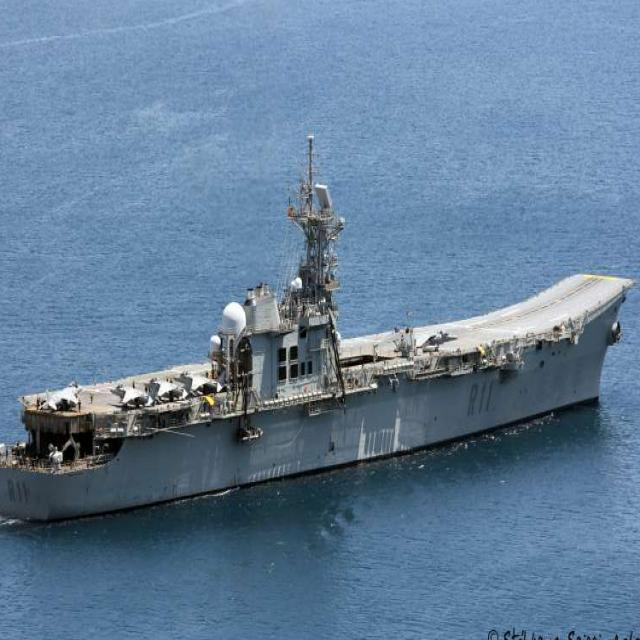Portanaves: (1, 124, 640, 532)
